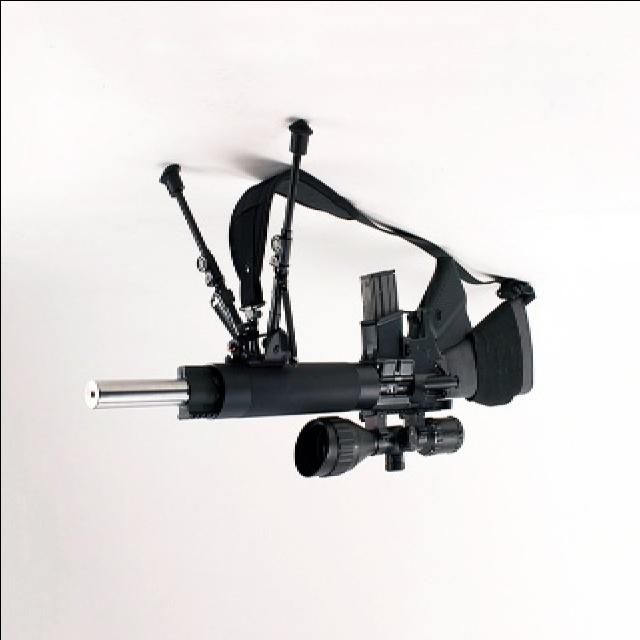rifle: (87, 138, 547, 485)
